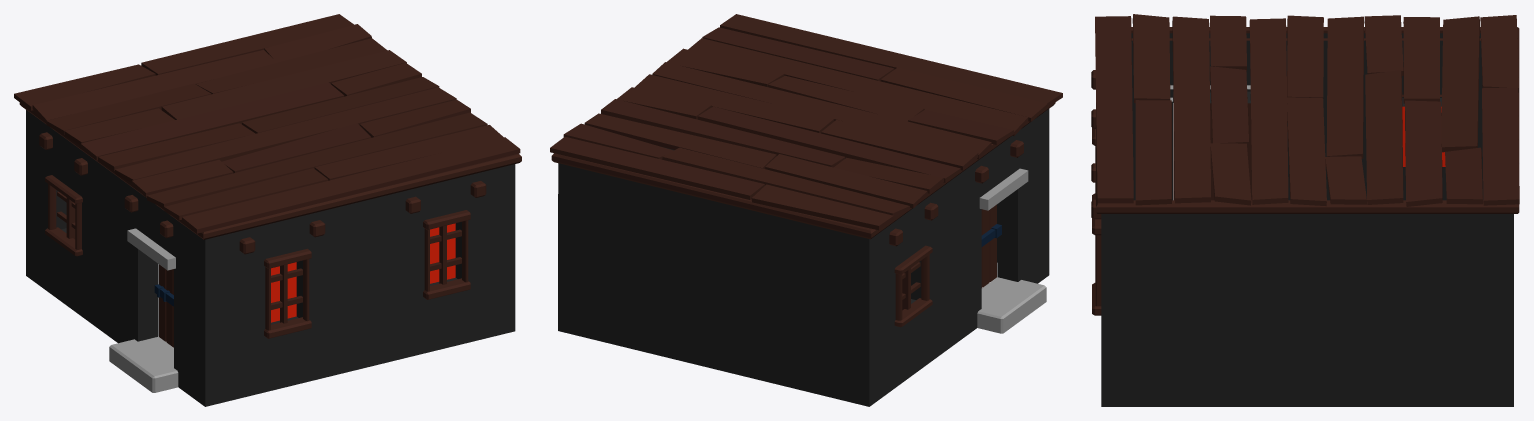
The model's file is civilian_house_39_b.FBX.
3 renders of one model, left to right at view 1: azimuth 30°, elevation 25°; view 2: azimuth 150°, elevation 25°; view 3: azimuth 270°, elevation 25°, orthographic. The views are drawn at different scales.
Visible parts, largest first — view 1: civilian_house_39_b; view 2: civilian_house_39_b; view 3: civilian_house_39_b.
Part boxes in pixels (bbox=[...]): civilian_house_39_b: bbox=[14, 14, 521, 406]; civilian_house_39_b: bbox=[550, 14, 1062, 406]; civilian_house_39_b: bbox=[1091, 14, 1519, 406].
Size of the model in its own units: 664 by 342 by 623.
